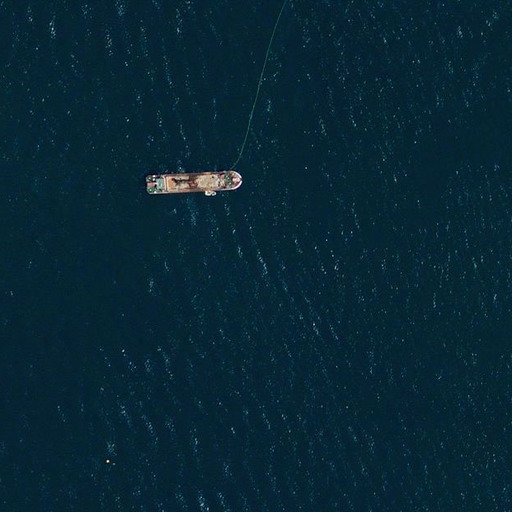ship: (141, 168, 246, 198)
